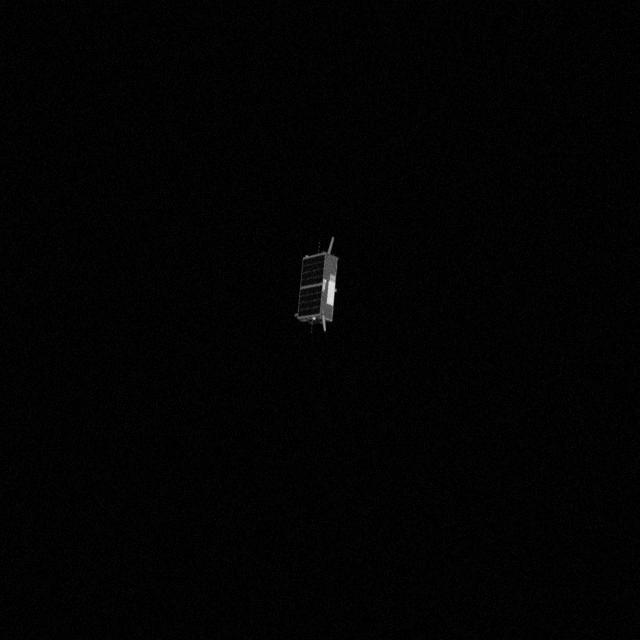medium_debris: (290, 240, 354, 338)
